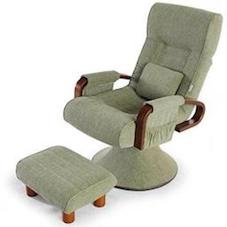chair: (0, 0, 222, 222), (9, 1, 221, 213)
